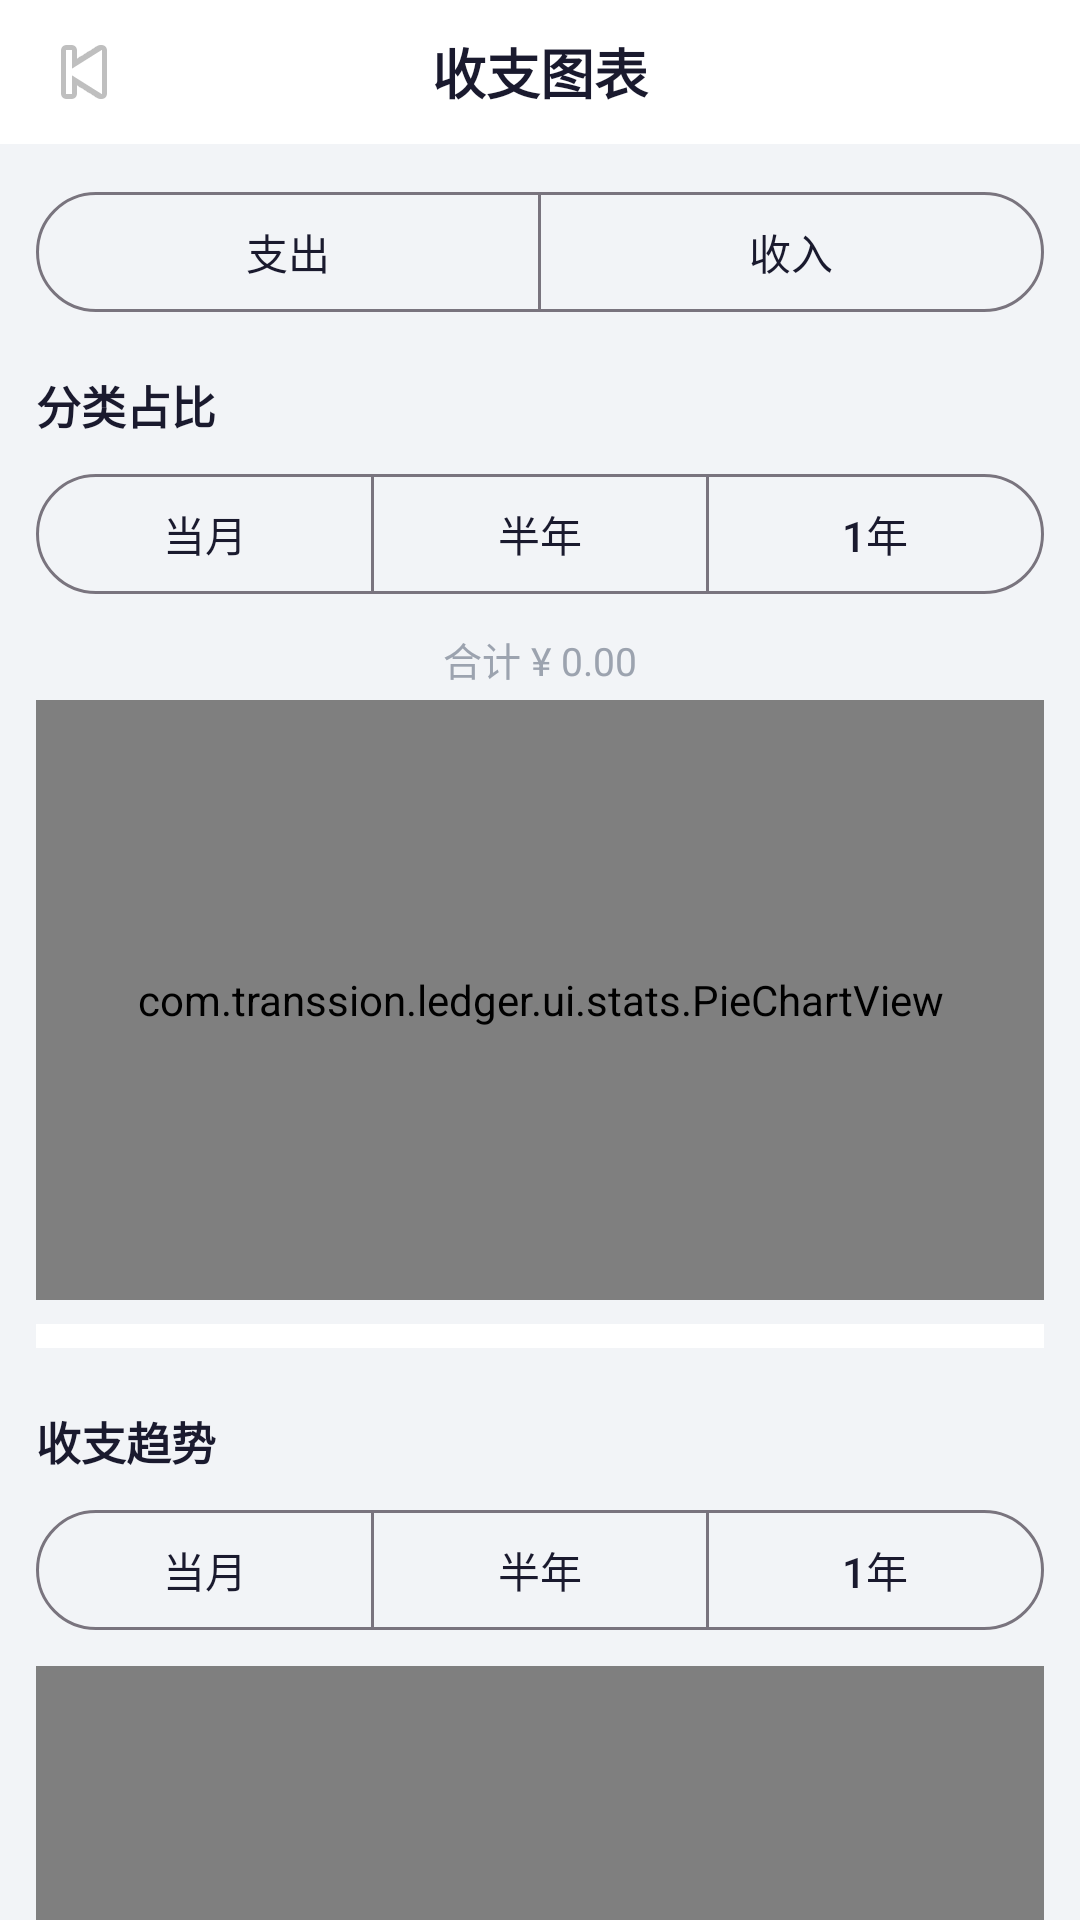

Named icons in this screenshot (1080w x 1920h) and their centers, [x,y]:
返回: [84,72]
